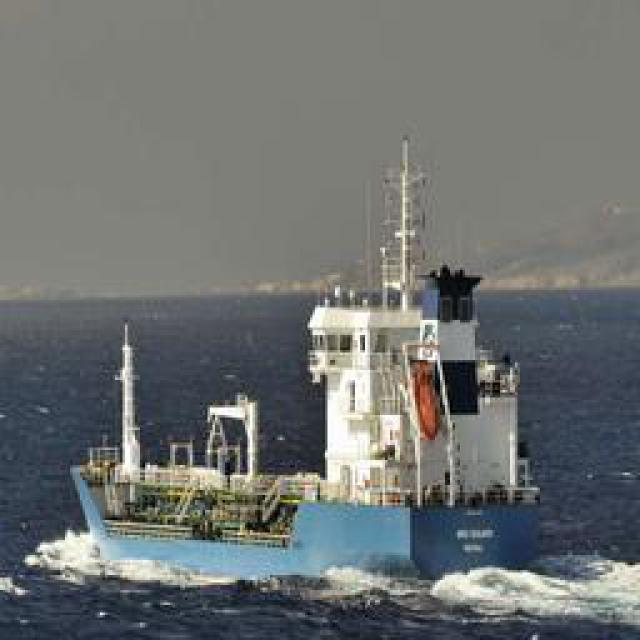Ship: (43, 241, 551, 584)
